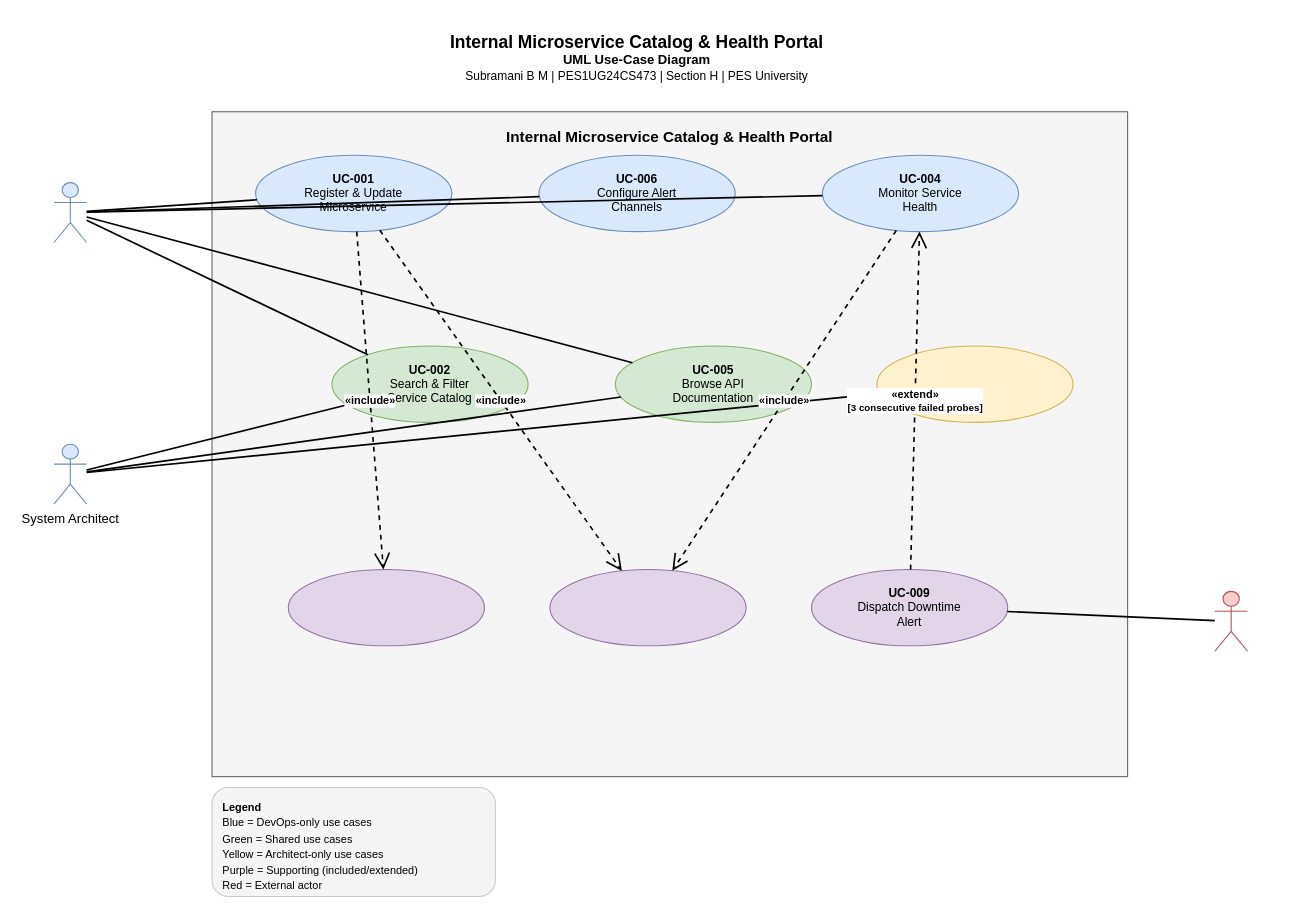
Some shapes in this 1301 by 916 pixel diagram are drawn without their labels. The shapes that lost their labels are listed below. From the top down, each one's centre as x and y in pixels, then its label:
(70,212): DevOps Engineer
(974,383): UC-003 View Dependency Graph
(386,607): UC-008 Validate Service Metadata
(647,607): UC-007 Authenticate via Enterprise SSO
(1231,620): Notification Service «external system»
